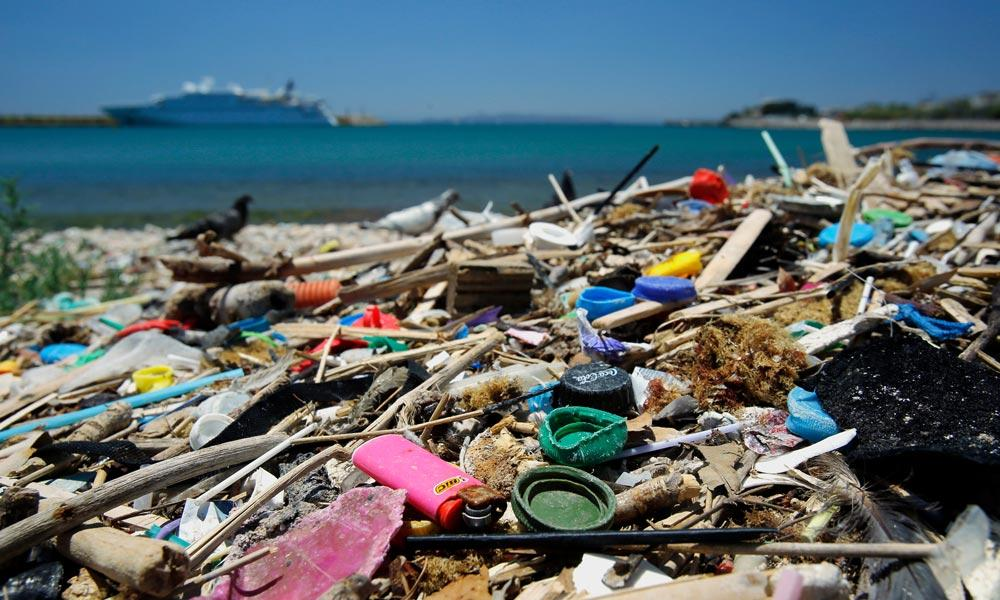garbage: (0, 155, 1000, 600)
